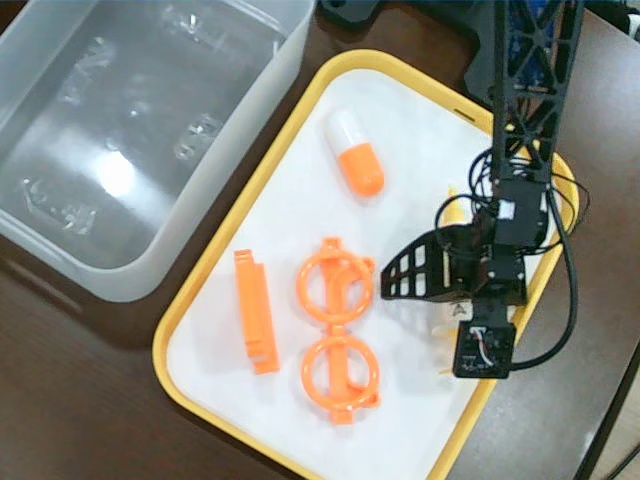pill: (323, 107, 386, 196)
